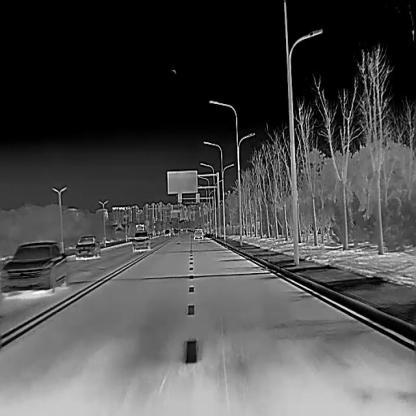car: (0, 240, 67, 297), (73, 234, 100, 258), (131, 230, 150, 249), (192, 225, 204, 238), (164, 227, 171, 235)
